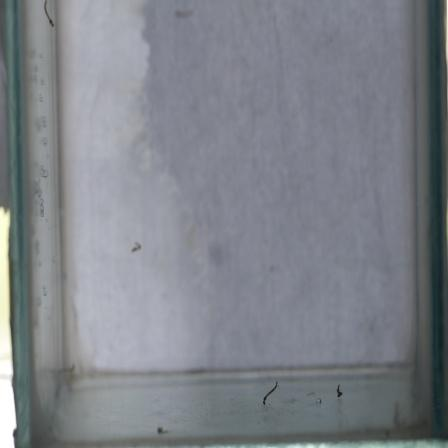Jentik-Nyamuk: (259, 379, 283, 408)
